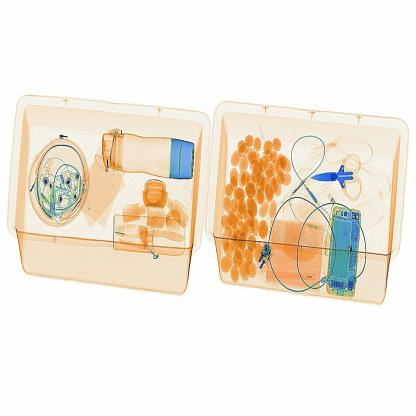gun: (309, 160, 363, 196)
